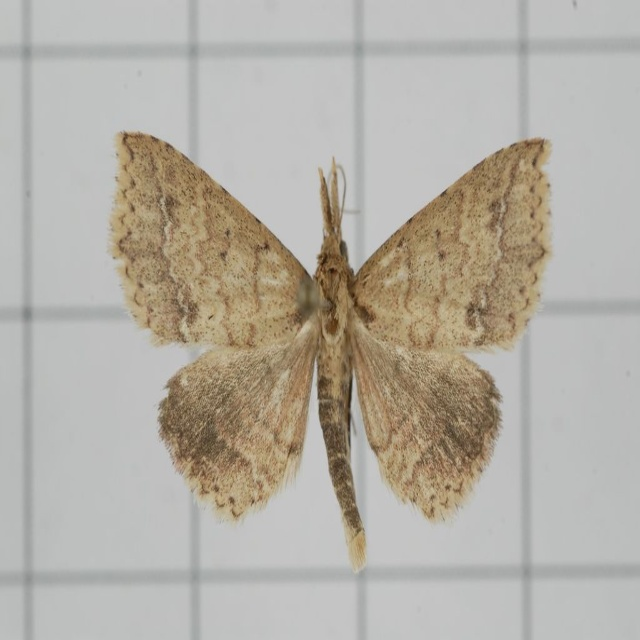Butterfly: (105, 132, 548, 573)
